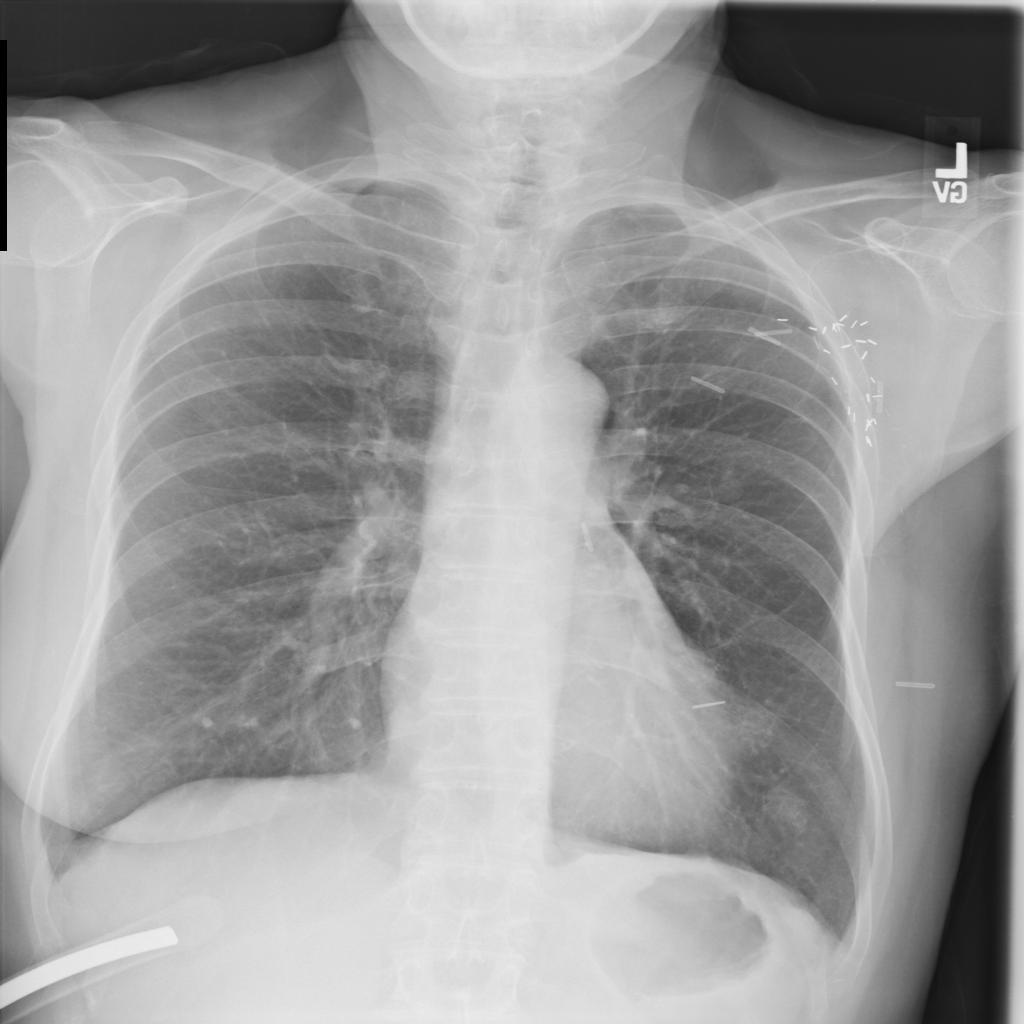nodule: (752, 771, 826, 846), (703, 458, 758, 508)
